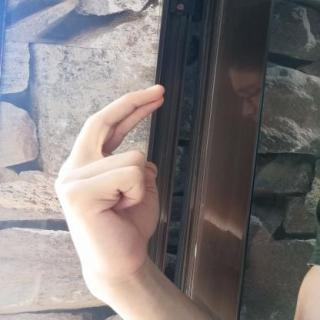ZAY: (47, 77, 179, 292)
